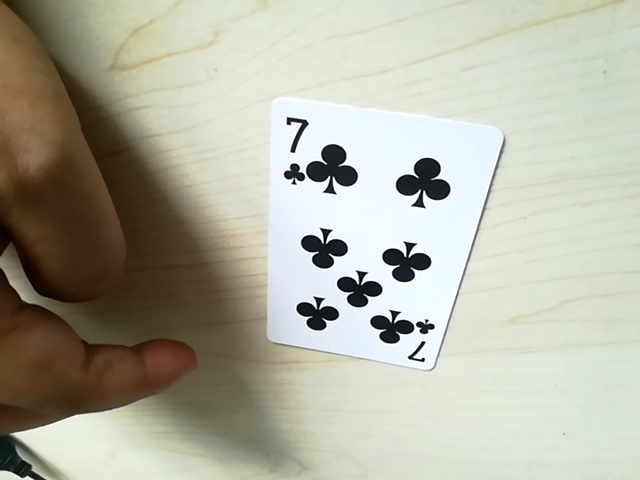mh 7: (274, 105, 315, 181), (400, 330, 440, 369)
